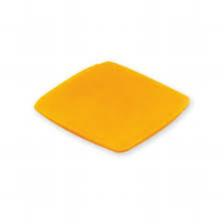cheese: (34, 59, 190, 152)
